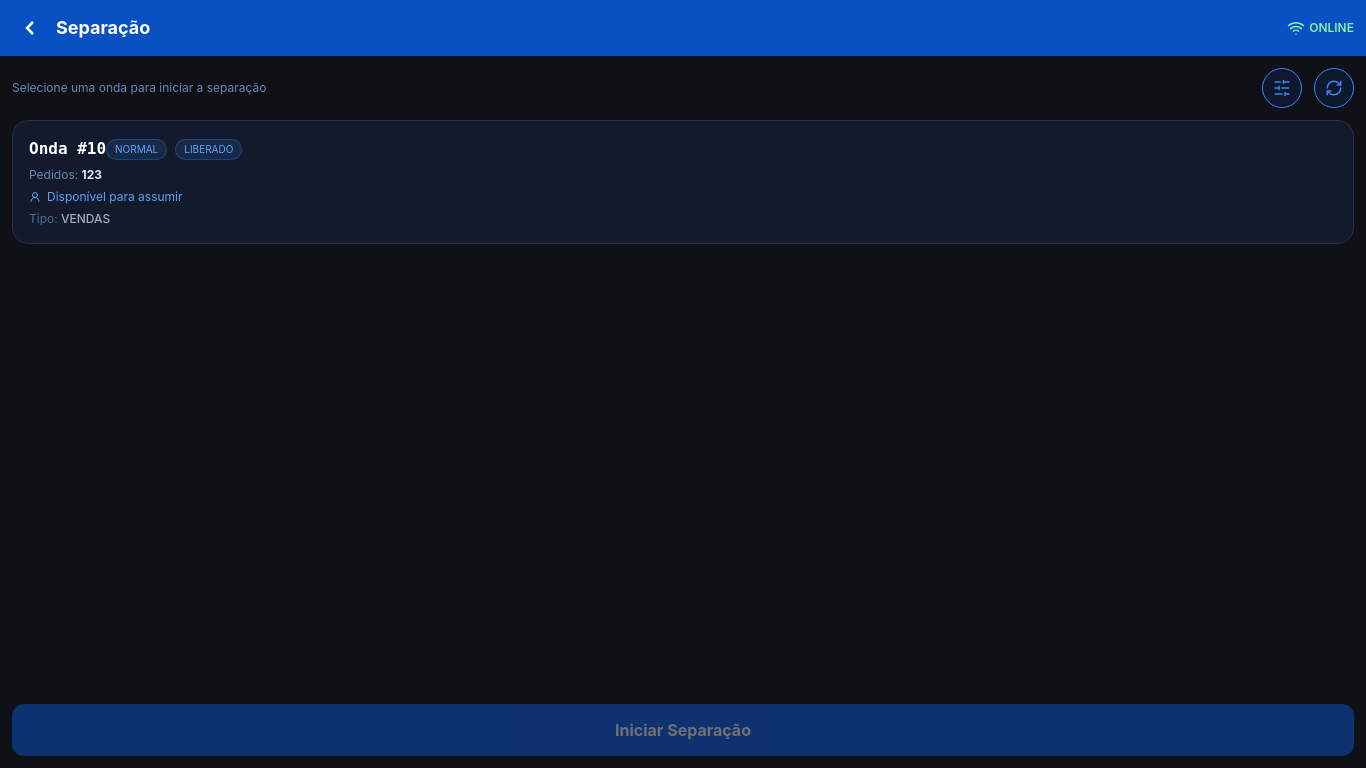
it: coletor — convocação híbrida na separação › onda designada a outro: botão bloqueado com o motivo
Click the button that starts with "Onda #". click: (683, 182)
box: left=12, top=120, right=1354, bottom=244
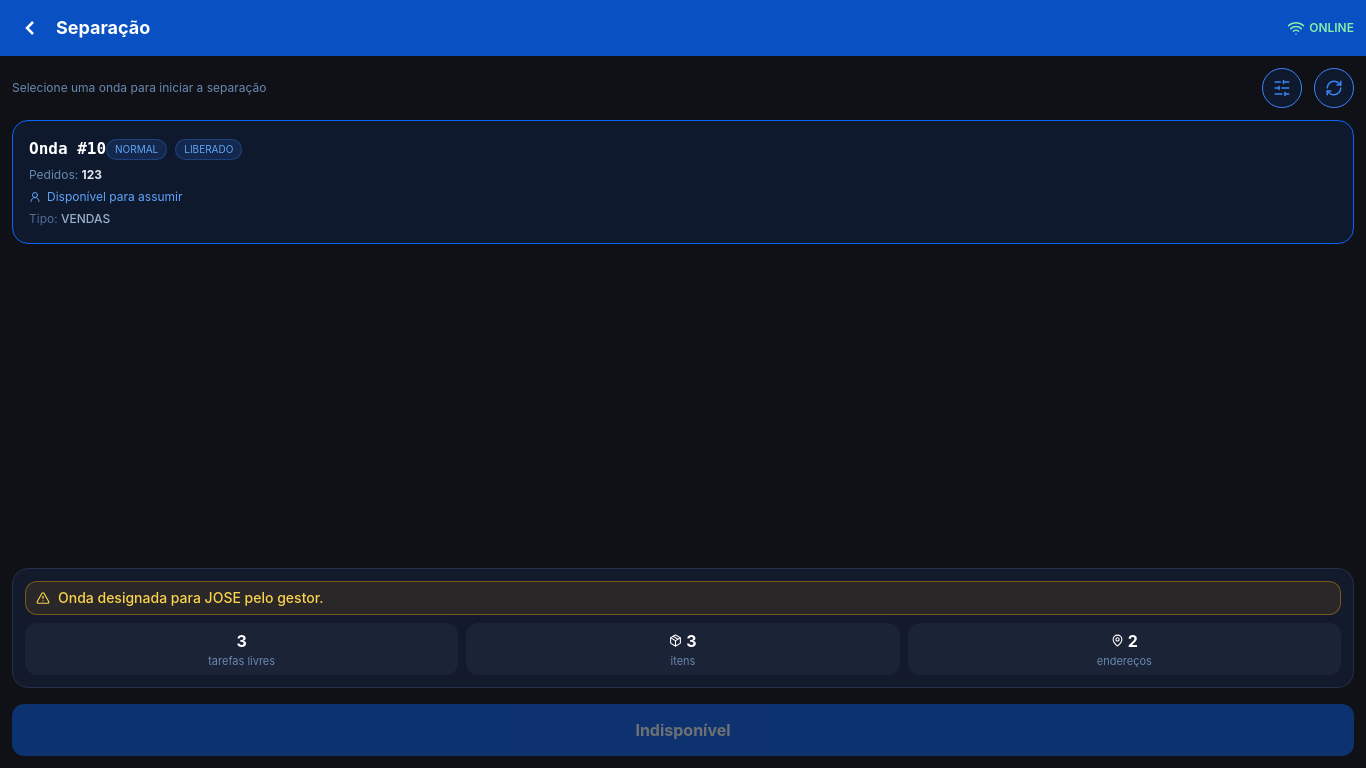
Expected: the button "Indisponível" is disabled, left=12, top=704, right=1354, bottom=756
Result: the text "Onda designada para JOSE pelo gestor" is shown at left=58, top=588, right=324, bottom=606
